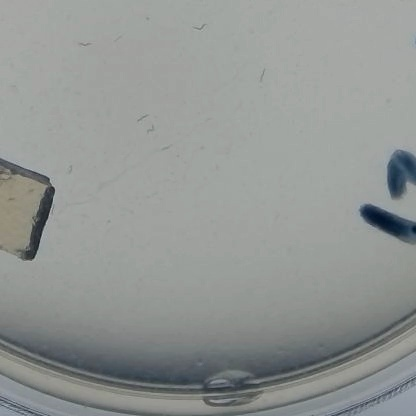worm: (187, 20, 211, 34), (254, 65, 272, 82), (142, 121, 159, 136), (74, 39, 93, 51), (113, 30, 128, 45), (134, 113, 152, 124), (63, 162, 78, 175), (158, 143, 174, 154)
